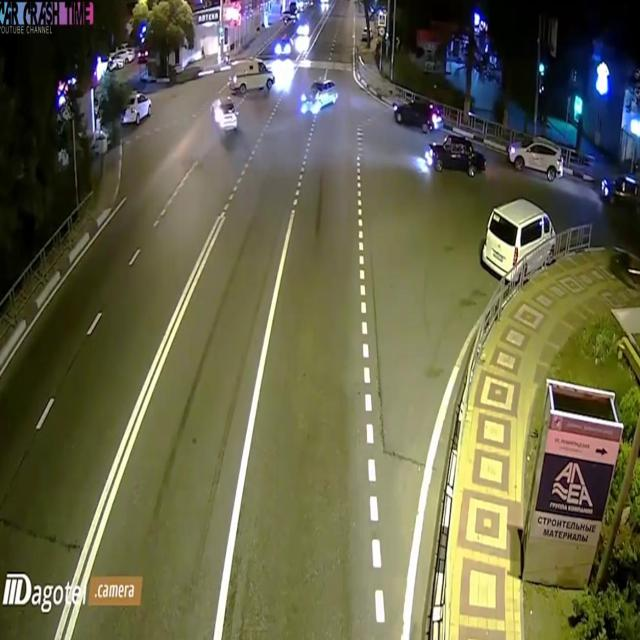non_accident: (390, 90, 490, 186), (229, 29, 295, 101)
